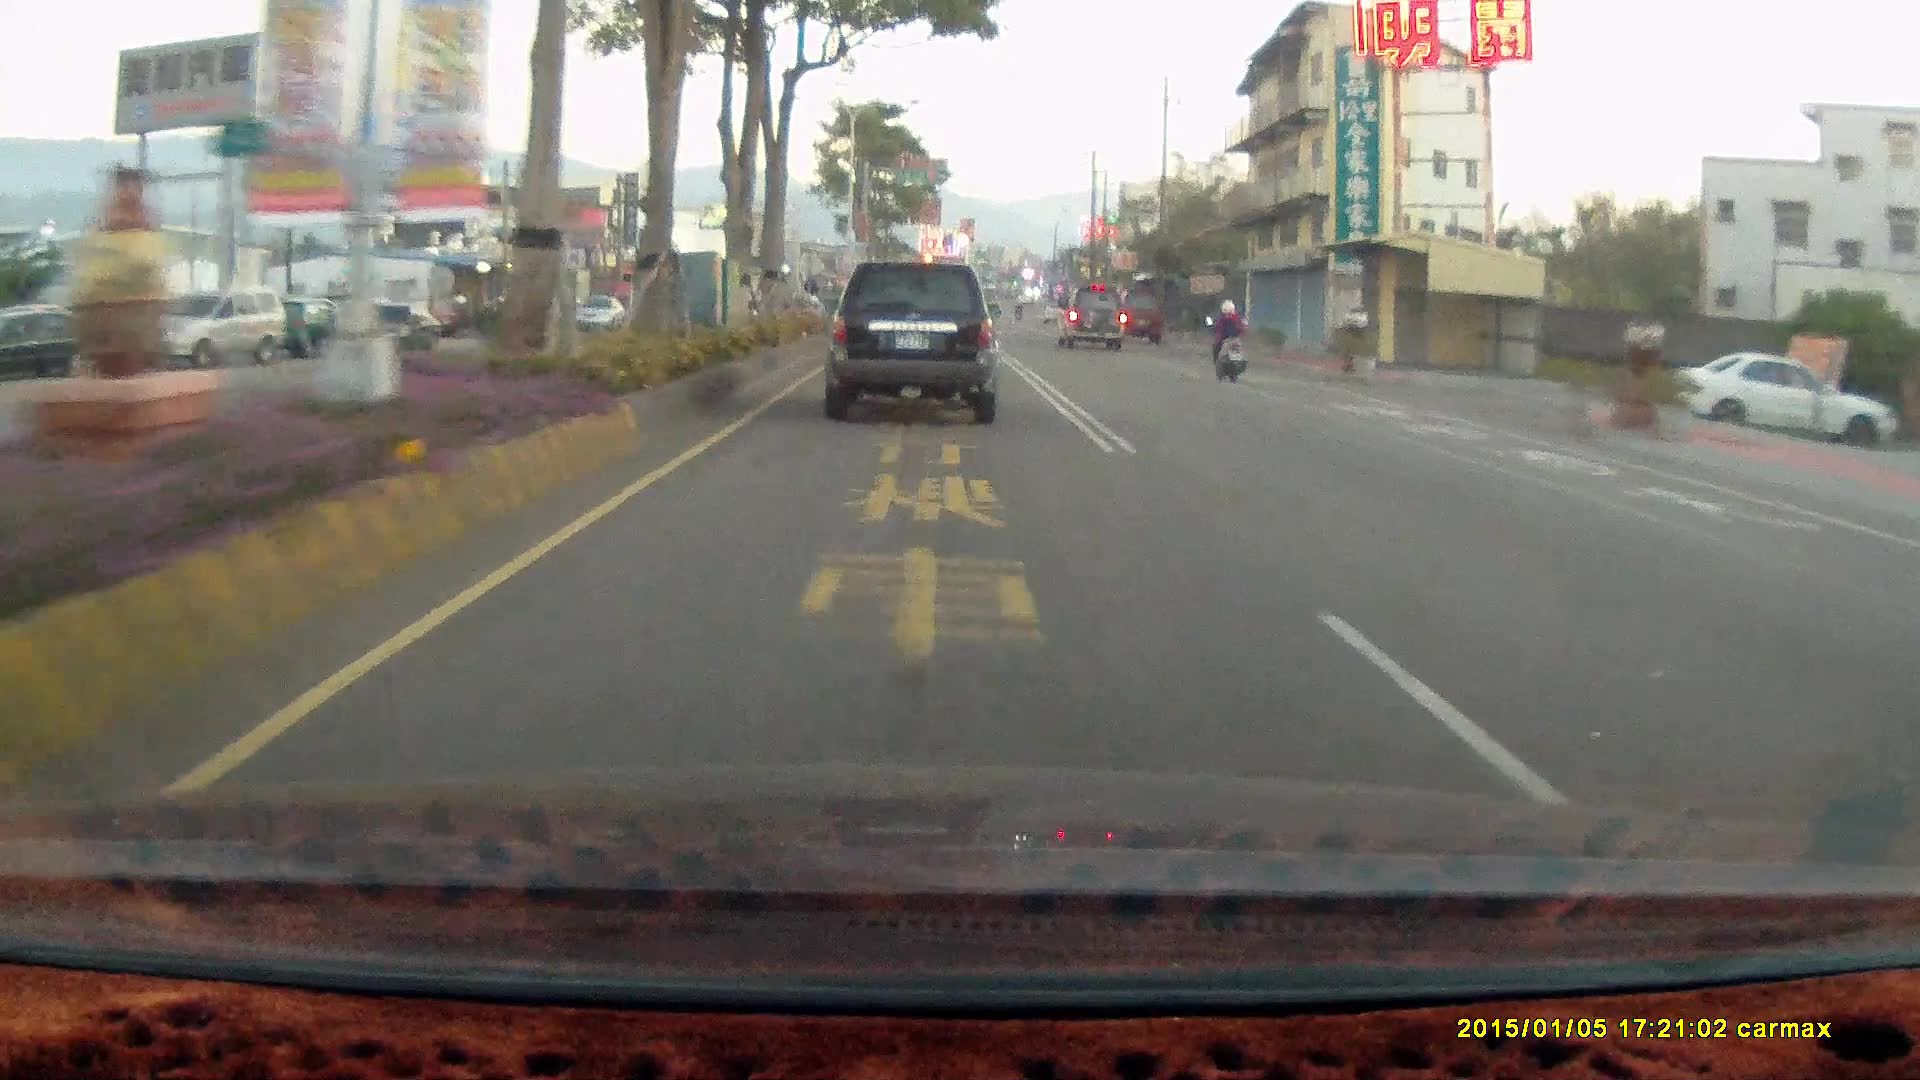rider: (1199, 294, 1258, 390), (1204, 298, 1247, 381)
vehicle: (815, 256, 1006, 428), (821, 260, 1000, 424), (1668, 351, 1897, 448), (1677, 353, 1892, 450), (131, 288, 291, 372), (127, 288, 287, 368), (1, 306, 133, 383), (330, 305, 445, 366), (1059, 289, 1130, 357), (1053, 283, 1125, 349), (1112, 288, 1163, 344)
